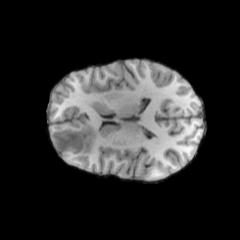glioma: (49, 123, 95, 155)
